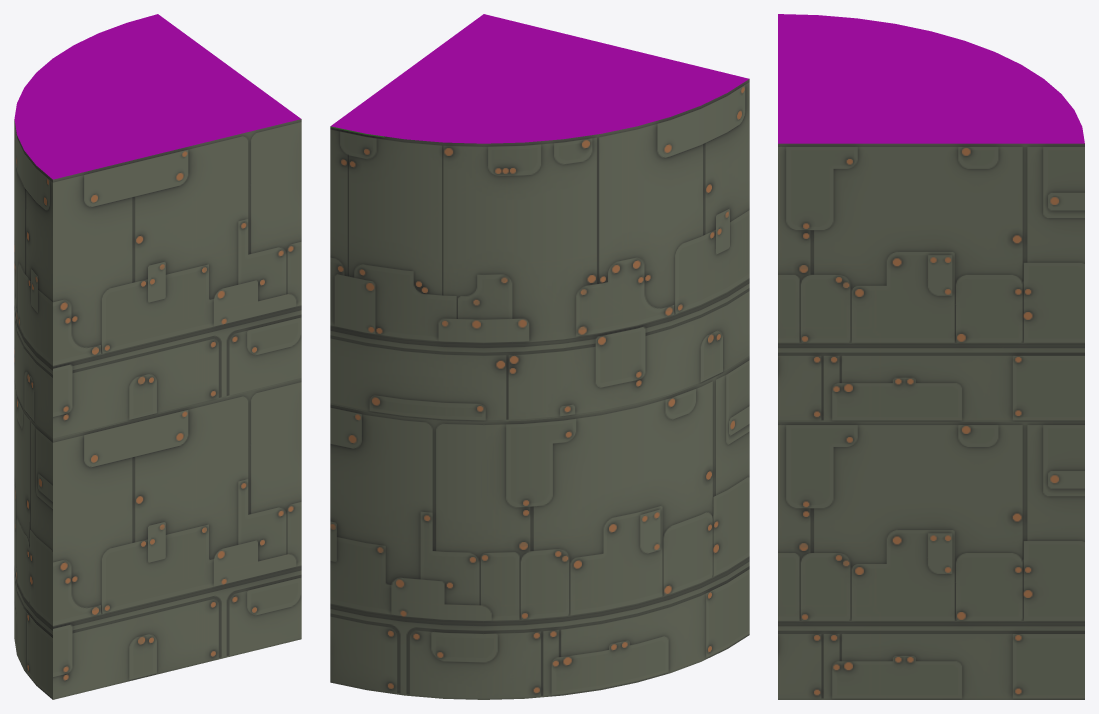
File: Block_Curved_Top_Fill.fbx
The picture shows the model from 3 angles, left to right: view 1: azimuth 30°, elevation 25°; view 2: azimuth 150°, elevation 25°; view 3: azimuth 270°, elevation 25°; orthographic projection. The views are drawn at different scales.
Parts seen in each view (by area): view 1: Block_Curved_Top_Fill, Block_Curved_Fill; view 2: Block_Curved_Top_Fill, Block_Curved_Fill; view 3: Block_Curved_Top_Fill, Block_Curved_Fill.
Part boxes in pixels (left/top/right/bottom): Block_Curved_Top_Fill: left=14, top=14, right=301, bottom=439; Block_Curved_Fill: left=14, top=379, right=301, bottom=699; Block_Curved_Top_Fill: left=330, top=14, right=749, bottom=421; Block_Curved_Fill: left=330, top=357, right=749, bottom=699; Block_Curved_Top_Fill: left=778, top=14, right=1084, bottom=421; Block_Curved_Fill: left=778, top=422, right=1084, bottom=699.
Size of the model in its own units: 100 by 200 by 100.
